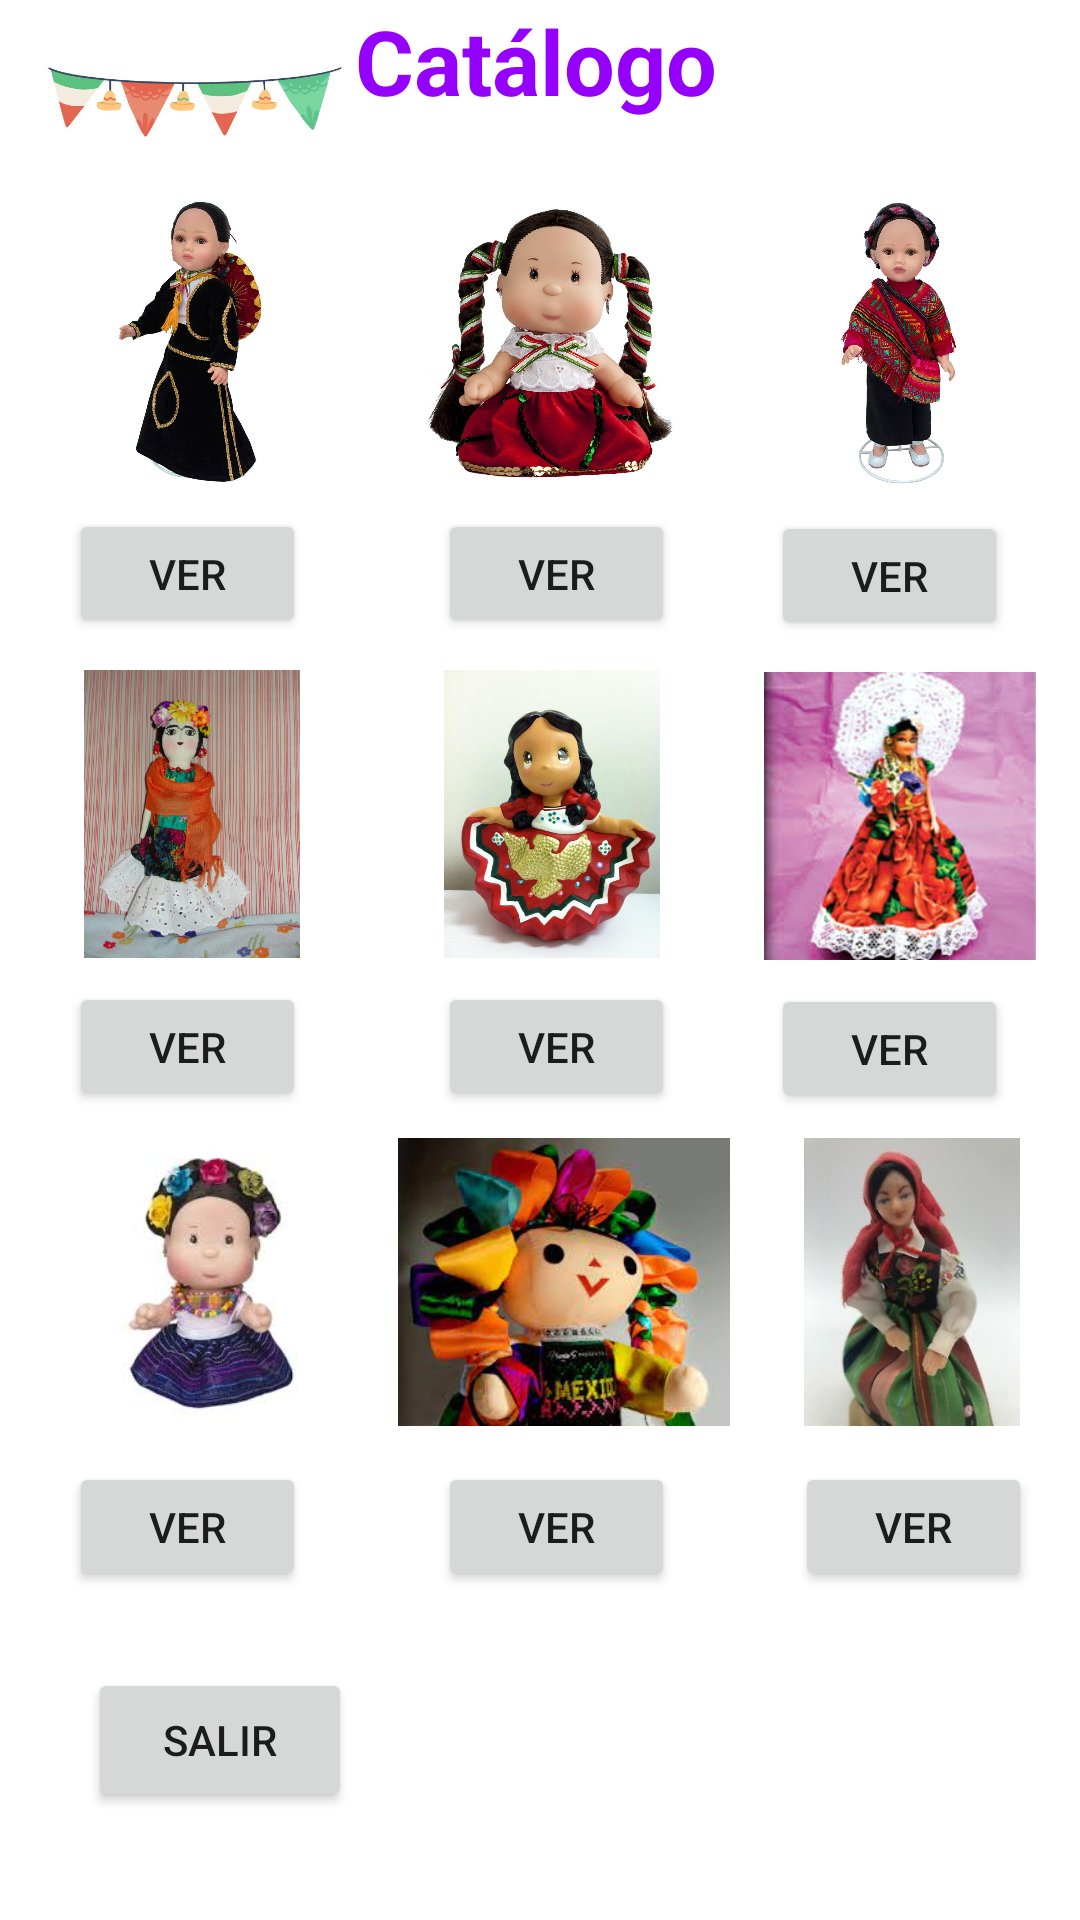

Named icons in this screenshot (1080×1920) and their bounding boxes, (x1, y1, x2, y2):
bnra: (48, 67, 342, 137)
